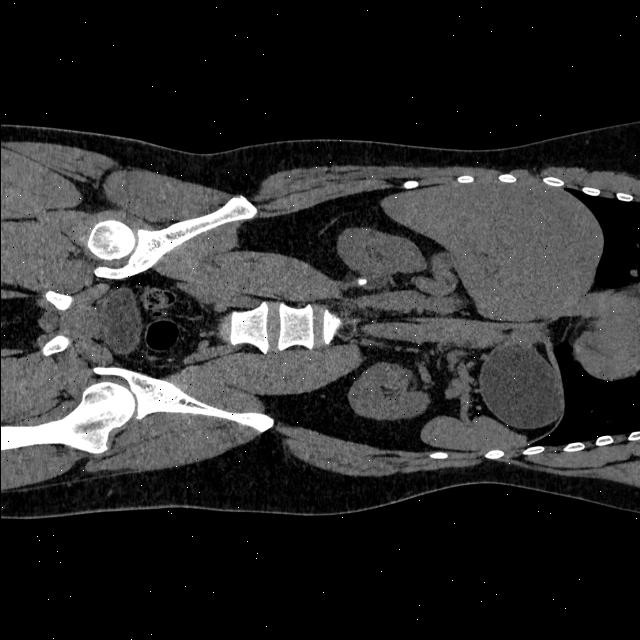kidneystone: (356, 278, 367, 286)
